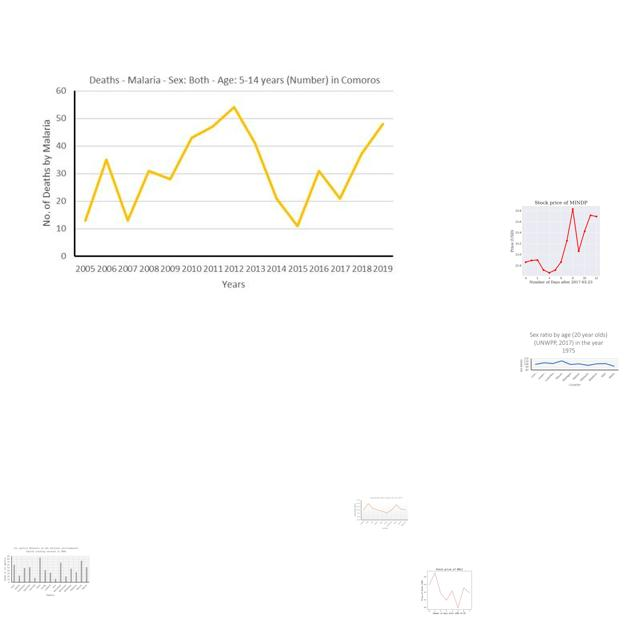Graph: (26, 70, 400, 292), (499, 195, 620, 286), (517, 329, 620, 389), (1, 545, 91, 597), (415, 565, 482, 615), (353, 496, 409, 529)
